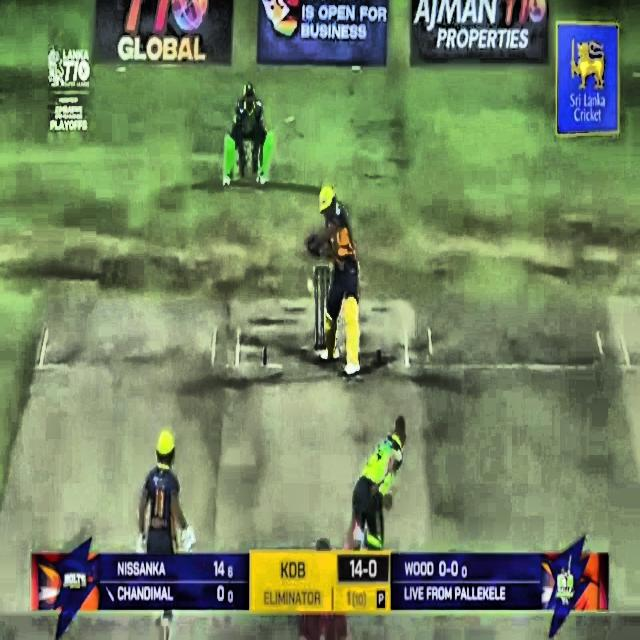Left-stump: (315, 272, 318, 348)
Middle-stump: (321, 273, 324, 348)
